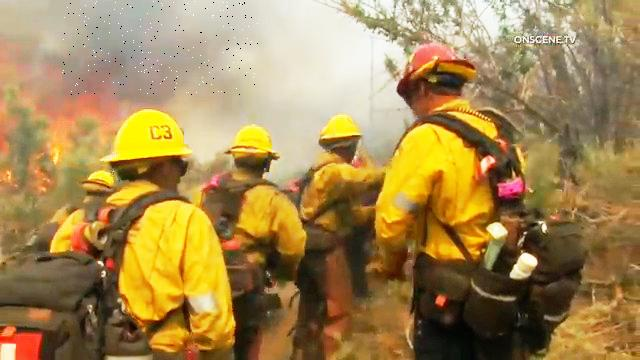smoke: (62, 0, 258, 95)
